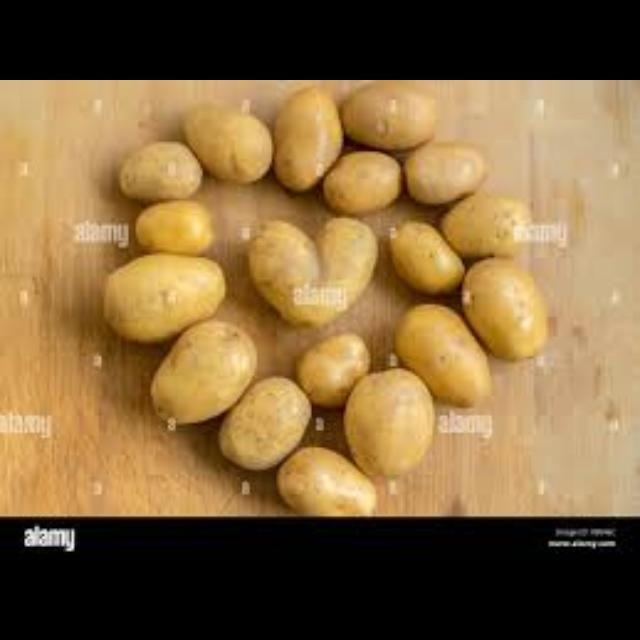Damaged potato: (250, 209, 378, 321)
Potato: (100, 252, 228, 344), (392, 302, 494, 411), (158, 320, 255, 430), (340, 367, 434, 475), (460, 255, 552, 362), (226, 368, 310, 470), (276, 438, 384, 516), (270, 85, 346, 195), (182, 98, 276, 184), (436, 183, 536, 260), (337, 80, 437, 146), (125, 192, 228, 256), (394, 130, 496, 194), (296, 331, 376, 407), (388, 220, 468, 294), (320, 148, 404, 212), (113, 140, 205, 198)
